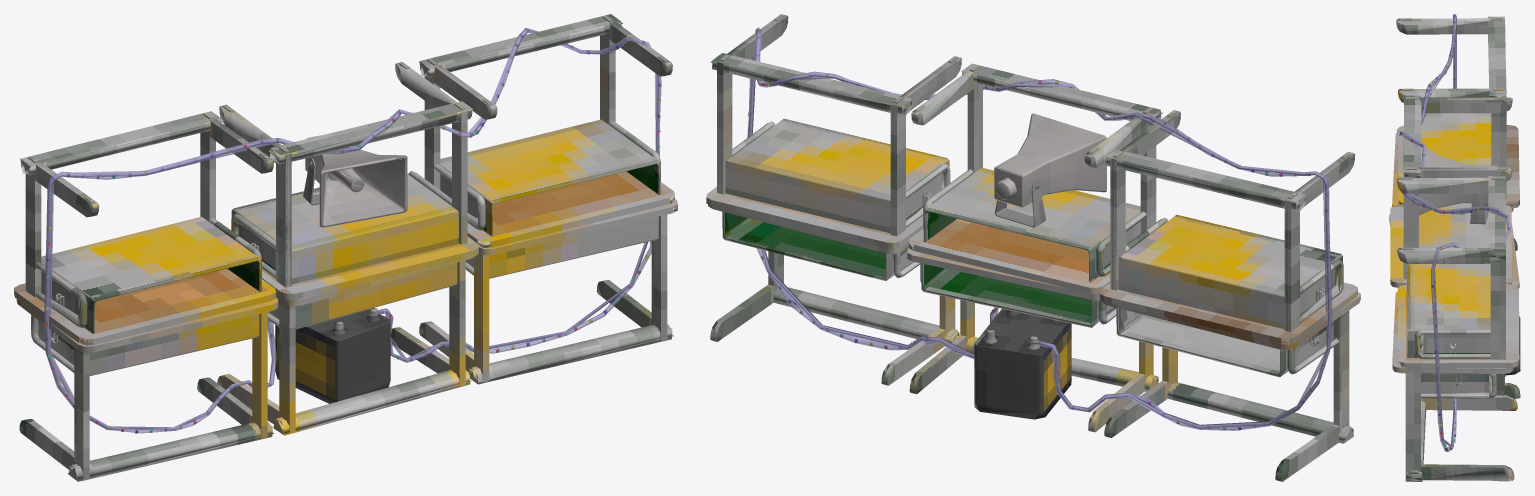
File: objects_un_base_barricade03.gltf
The picture shows the model from 3 angles, left to right: view 1: azimuth 30°, elevation 25°; view 2: azimuth 150°, elevation 25°; view 3: azimuth 270°, elevation 25°; orthographic projection. The views are drawn at different scales.
Visible parts, largest first — view 1: um_objects_un_base_barricade03_model_lod0Shape:objects_un_ba (×7), um_objects_un_base_barricade03_model_lod2Shape:objects_un_ba (×4), um_objects_un_base_barricade03_model_lod1Shape:objects_un_ba (×5); view 2: um_objects_un_base_barricade03_model_lod0Shape:objects_un_ba (×7), um_objects_un_base_barricade03_model_lod2Shape:objects_un_ba (×5), um_objects_un_base_barricade03_model_lod1Shape:objects_un_ba (×6); view 3: um_objects_un_base_barricade03_model_lod0Shape:objects_un_ba (×6), um_objects_un_base_barricade03_model_lod2Shape:objects_un_ba (×4), um_objects_un_base_barricade03_model_lod1Shape:objects_un_ba (×5).
Part boxes in pixels (x1,y1,x2,y2): um_objects_un_base_barricade03_model_lod0Shape:objects_un_ba (×7): (14, 14, 677, 479); um_objects_un_base_barricade03_model_lod2Shape:objects_un_ba (×4): (15, 21, 676, 481); um_objects_un_base_barricade03_model_lod1Shape:objects_un_ba (×5): (14, 21, 677, 481); um_objects_un_base_barricade03_model_lod0Shape:objects_un_ba (×7): (706, 14, 1360, 480); um_objects_un_base_barricade03_model_lod2Shape:objects_un_ba (×5): (707, 14, 1359, 481); um_objects_un_base_barricade03_model_lod1Shape:objects_un_ba (×6): (707, 14, 1358, 481); um_objects_un_base_barricade03_model_lod0Shape:objects_un_ba (×6): (1390, 14, 1520, 481); um_objects_un_base_barricade03_model_lod2Shape:objects_un_ba (×4): (1389, 17, 1519, 480); um_objects_un_base_barricade03_model_lod1Shape:objects_un_ba (×5): (1392, 15, 1520, 481).
Size of the model in its own units: 3.15 by 1.43 by 0.7216.
Materials: 7 (7 with a texture image).
